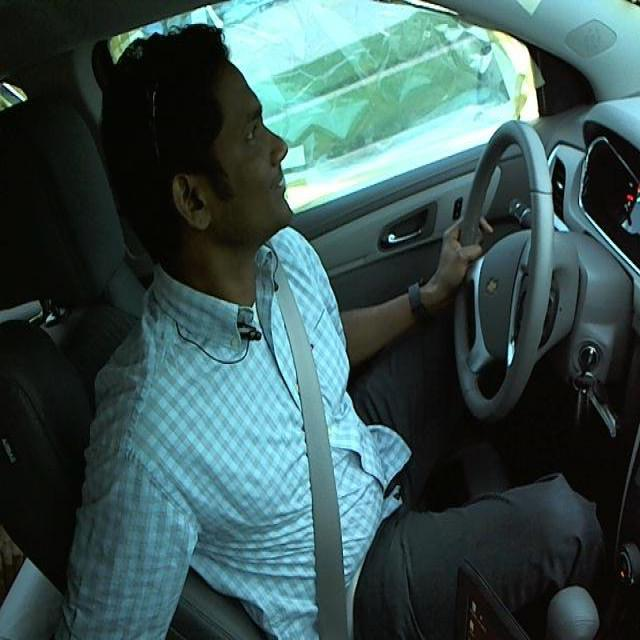seatbelt: (274, 277, 379, 623)
